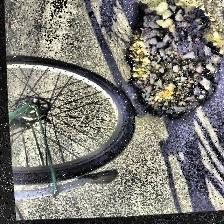pothole: (114, 0, 224, 128)
